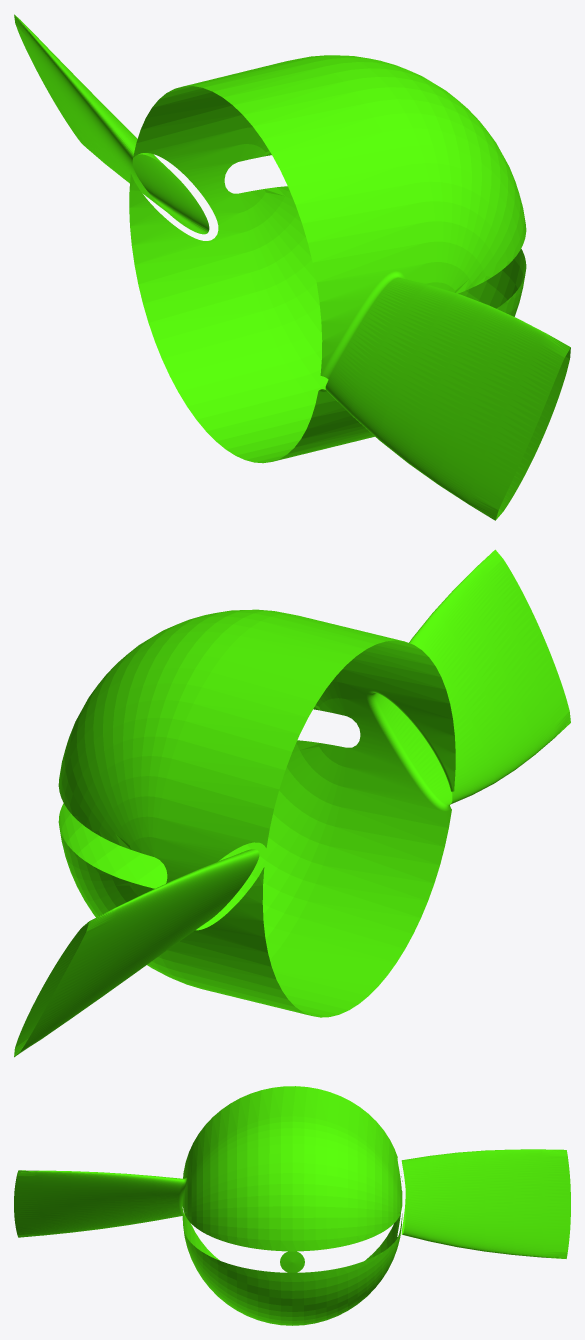
Rendered from propeller.dae.
The picture shows the model from 3 angles, top to bottom: view 1: azimuth 30°, elevation 25°; view 2: azimuth 150°, elevation 25°; view 3: azimuth 270°, elevation 25°; orthographic projection. The views are drawn at different scales.
Visible parts, largest first — view 1: 5f86f4ab9158d01220e9700f (×2); view 2: 5f86f4ab9158d01220e9700f (×2); view 3: 5f86f4ab9158d01220e9700f (×2).
Part boxes in pixels (x1,y1,x2,y2): 5f86f4ab9158d01220e9700f (×2): (14, 14, 570, 520); 5f86f4ab9158d01220e9700f (×2): (14, 549, 570, 1057); 5f86f4ab9158d01220e9700f (×2): (14, 1086, 570, 1325).
Size of the model in its own units: 0.0248 by 0.076 by 0.03.
